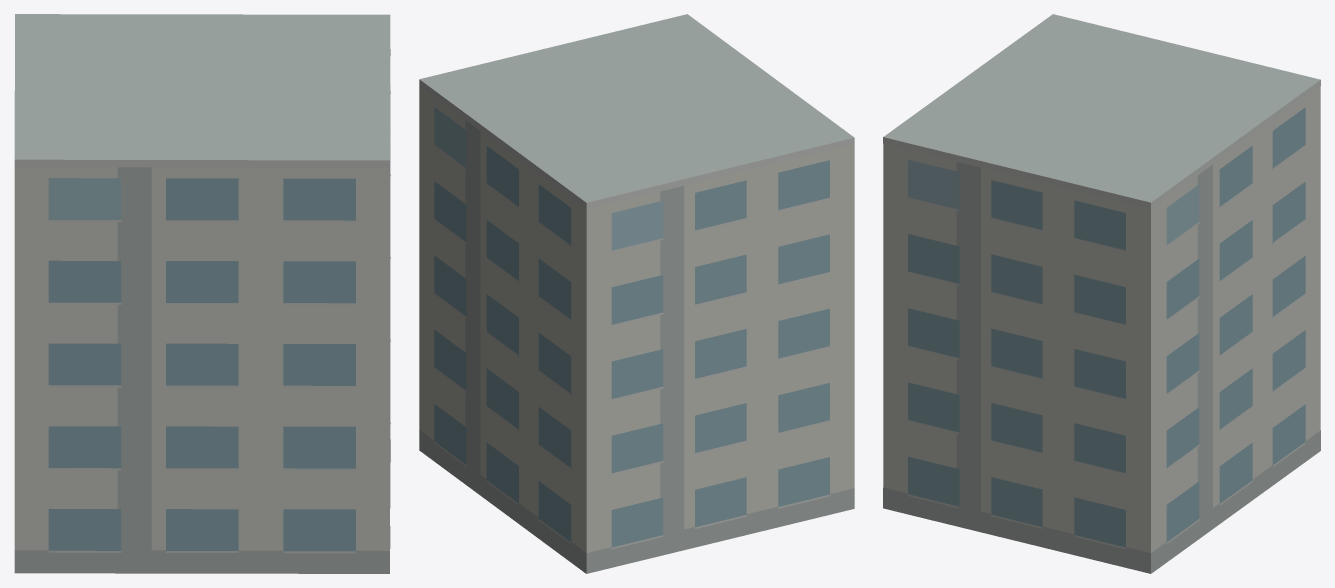
The model's file is survey-upis-32987758.glb.
3 renders of one model, left to right at view 1: azimuth 30°, elevation 25°; view 2: azimuth 150°, elevation 25°; view 3: azimuth 270°, elevation 25°, orthographic. The views are drawn at different scales.
Visible parts, largest first — view 1: survey-upis-32987758.tmp; view 2: survey-upis-32987758.tmp; view 3: survey-upis-32987758.tmp.
Boxes of the visible parts, <box> form: survey-upis-32987758.tmp: <box>14,14,390,573</box>; survey-upis-32987758.tmp: <box>419,14,854,573</box>; survey-upis-32987758.tmp: <box>883,14,1320,573</box>.
Size of the model in its own units: 14.94 by 13.7 by 14.64.
